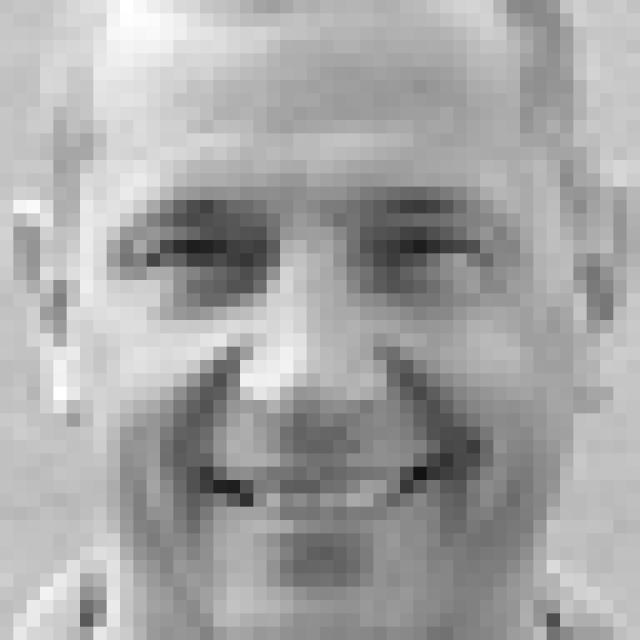happy: (112, 184, 521, 560)
